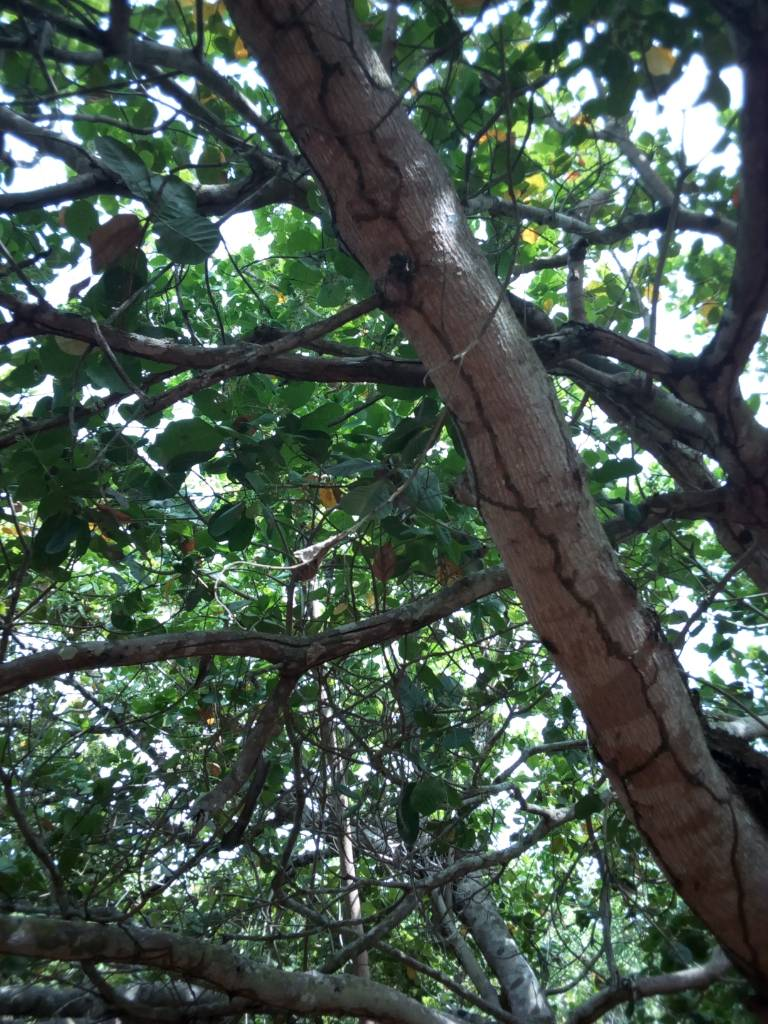Termites: (632, 732, 768, 924), (302, 24, 411, 244), (429, 310, 529, 508), (547, 549, 654, 694)
